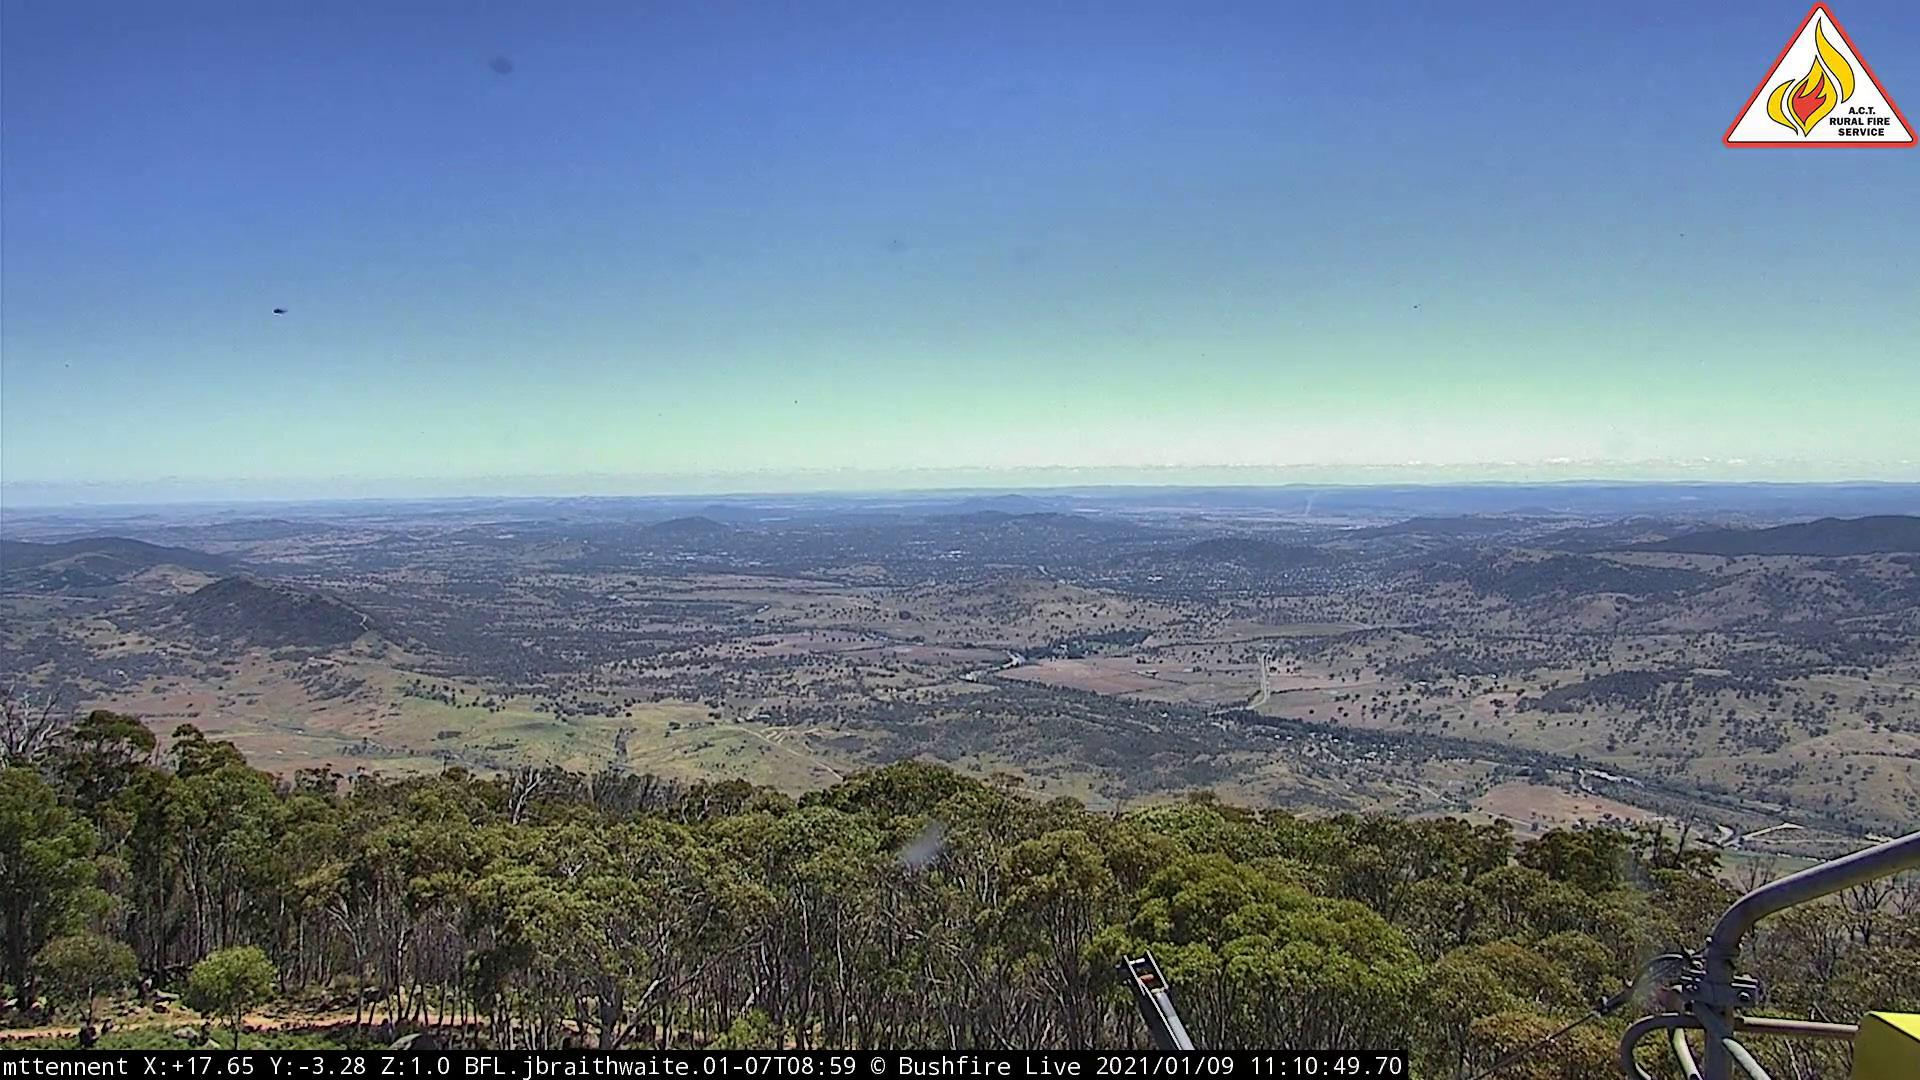Smoke: (1300, 492, 1324, 520)
